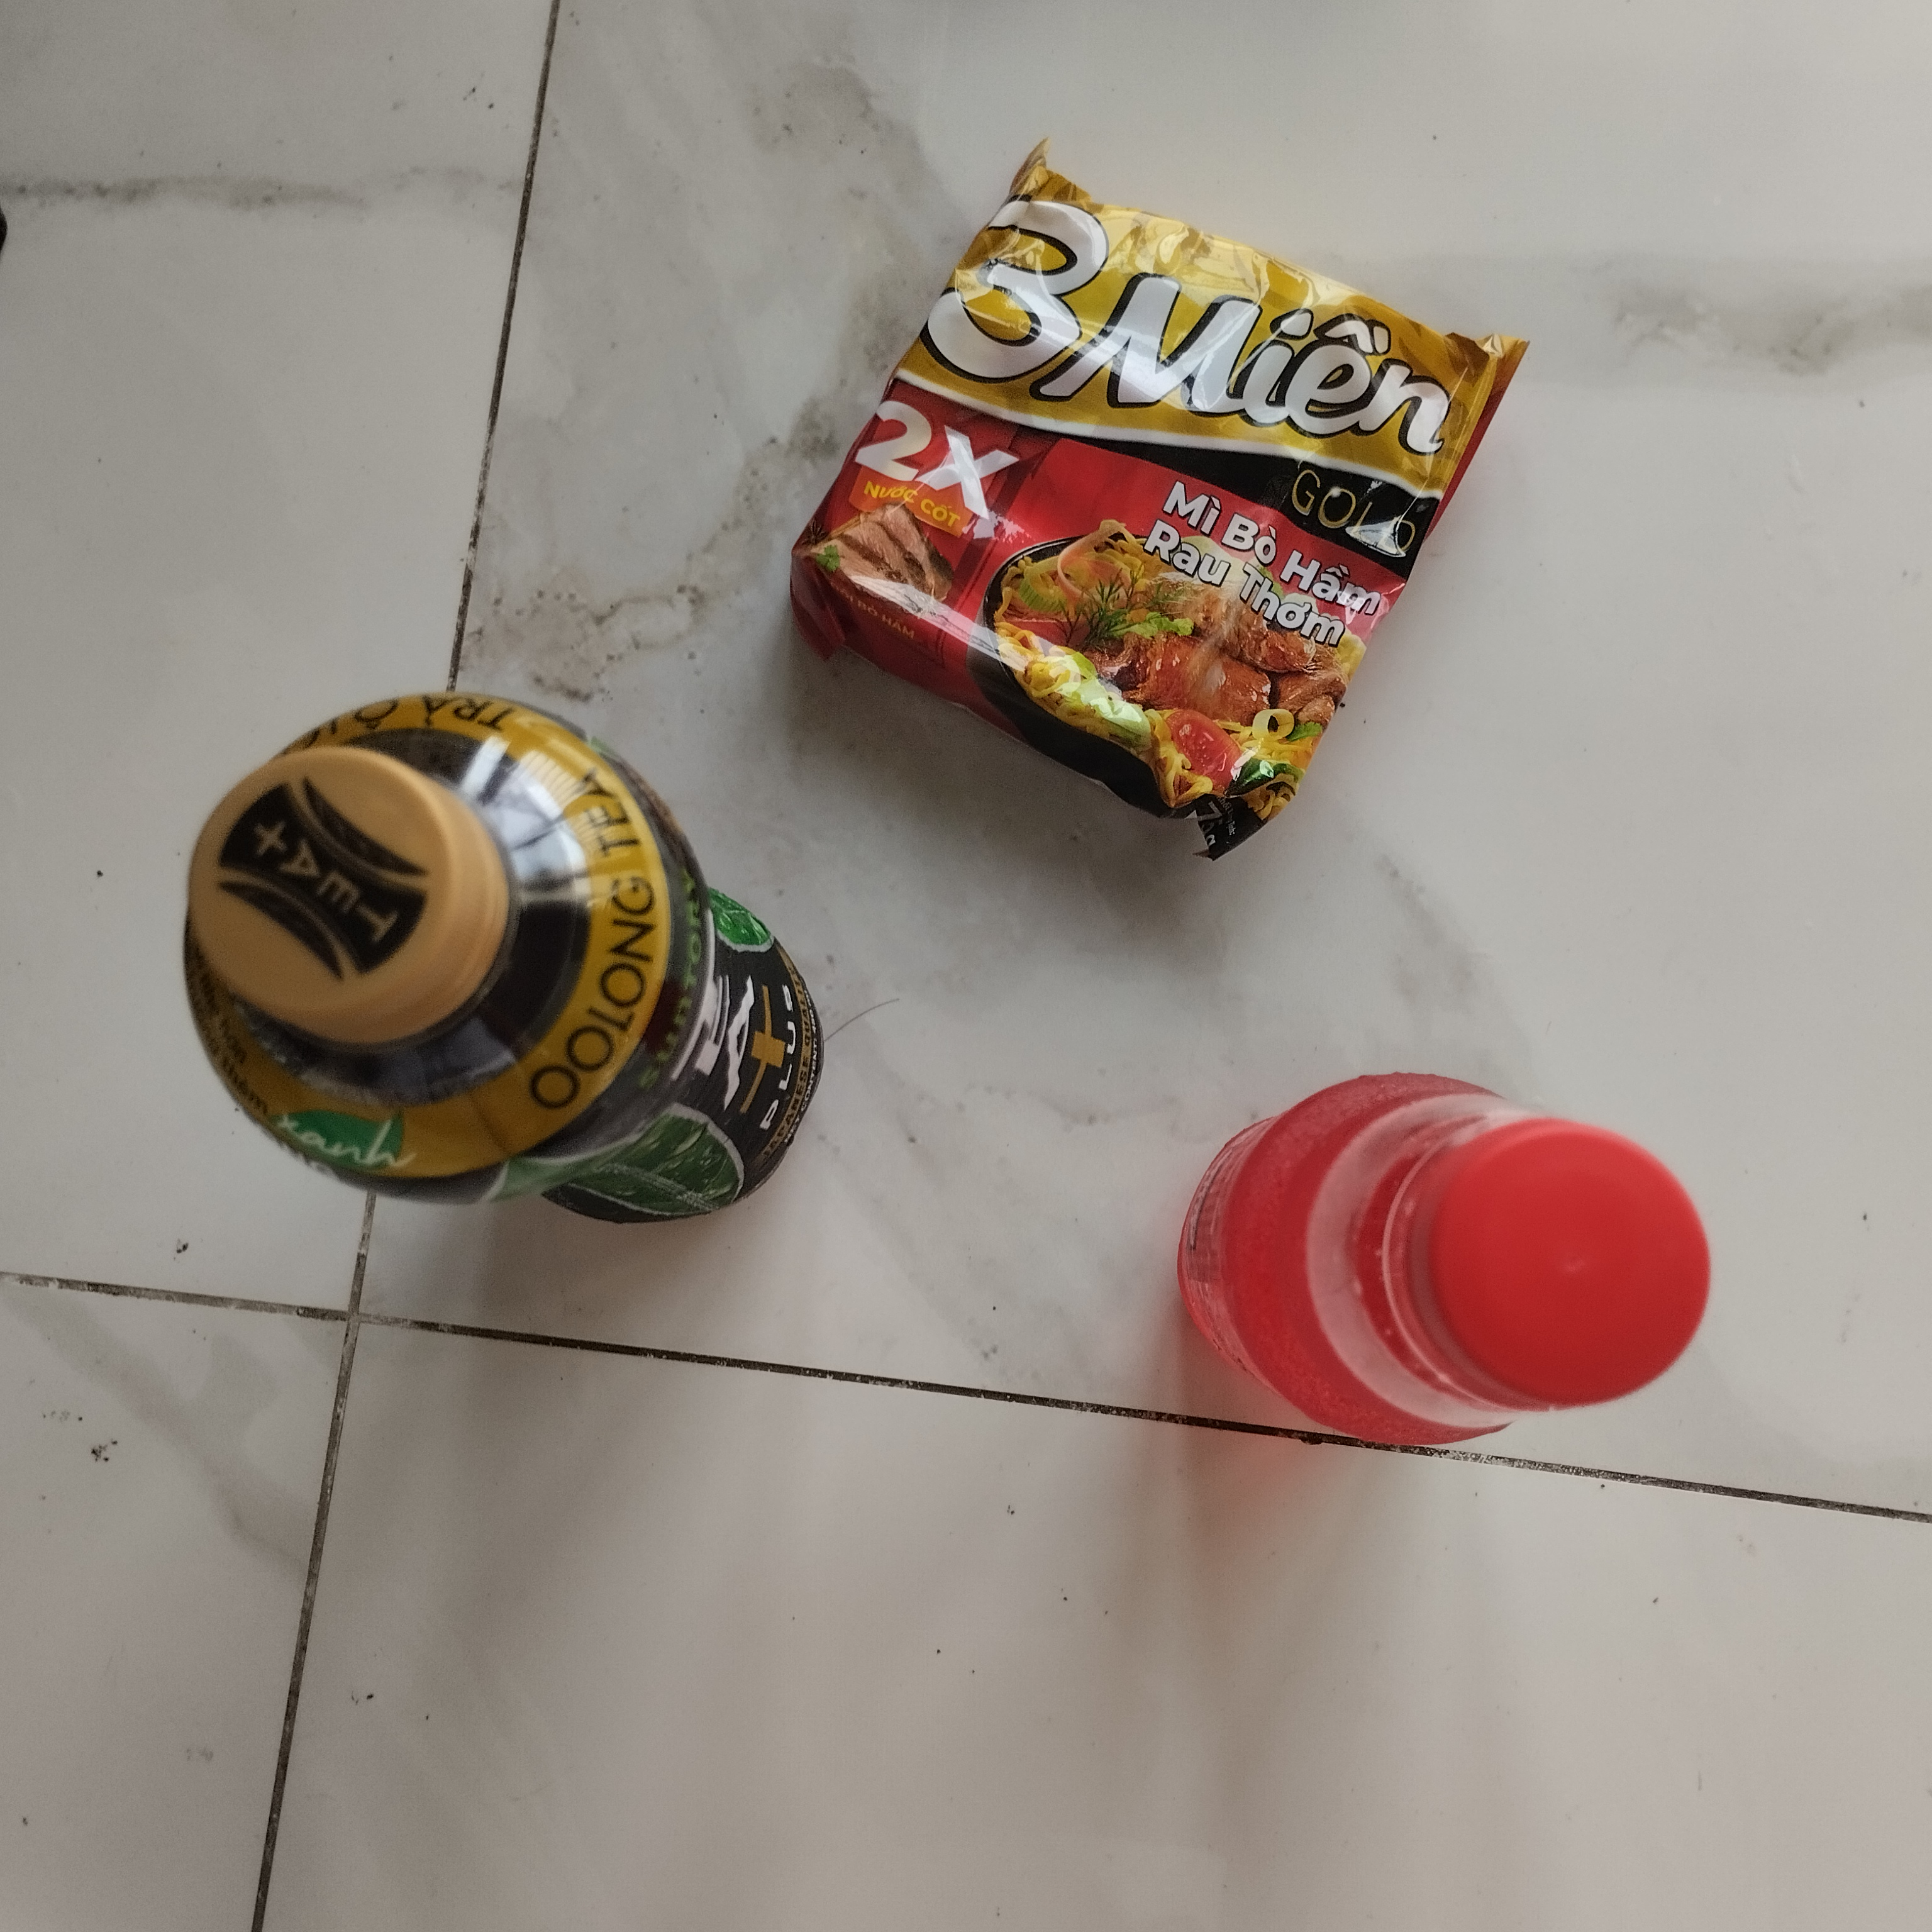3mien: (786, 136, 1534, 870)
Olong: (170, 685, 828, 1226)
Sting: (1169, 1058, 1711, 1458)
